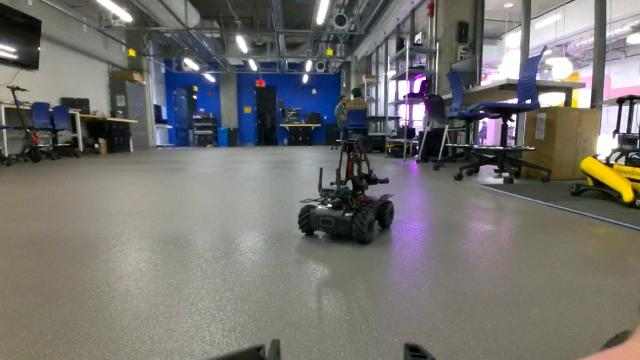robot: (291, 136, 396, 246)
